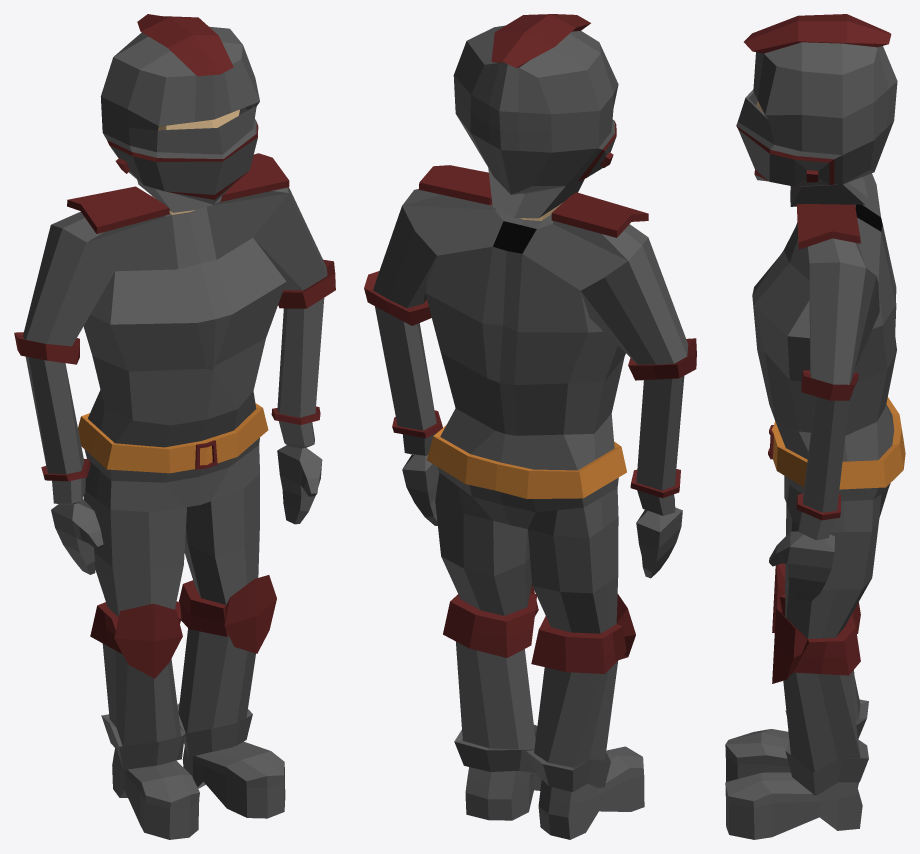
Rendered from suitofarmor.fbx.
3 renders of one model, left to right at view 1: azimuth 30°, elevation 25°; view 2: azimuth 150°, elevation 25°; view 3: azimuth 270°, elevation 25°, orthographic. The views are drawn at different scales.
Visible parts, largest first — view 1: Cube.001; view 2: Cube.001; view 3: Cube.001.
Part boxes in pixels (x1,y1,x2,y2): Cube.001: (14, 14, 335, 839); Cube.001: (364, 14, 696, 839); Cube.001: (725, 14, 905, 839).
Bounding box in the file's own units: 660 × 1532 × 318.
